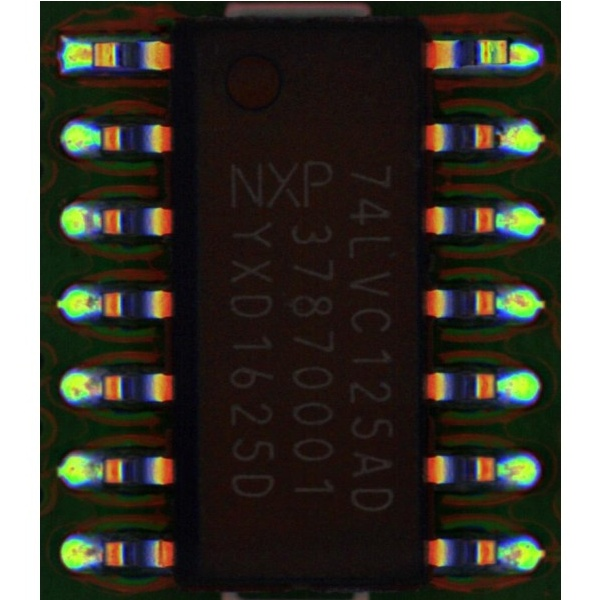Bad_qiaojiao: (78, 44, 110, 60), (491, 47, 521, 60)
